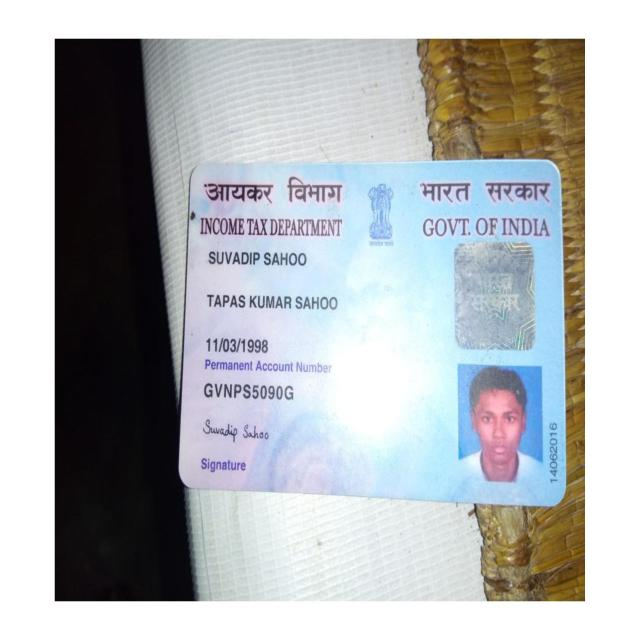pan_card: (185, 168, 563, 496)
